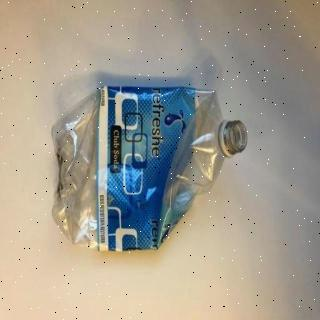Plastic-bottle: (51, 82, 248, 254)
